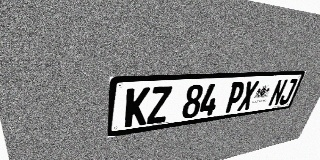4: (198, 83, 222, 117)
8: (181, 84, 205, 119)
J: (278, 78, 298, 105)
K: (124, 87, 151, 128)
N: (267, 79, 288, 107)
P: (223, 82, 246, 113)
X: (237, 81, 259, 111)
Z: (147, 86, 172, 124)
